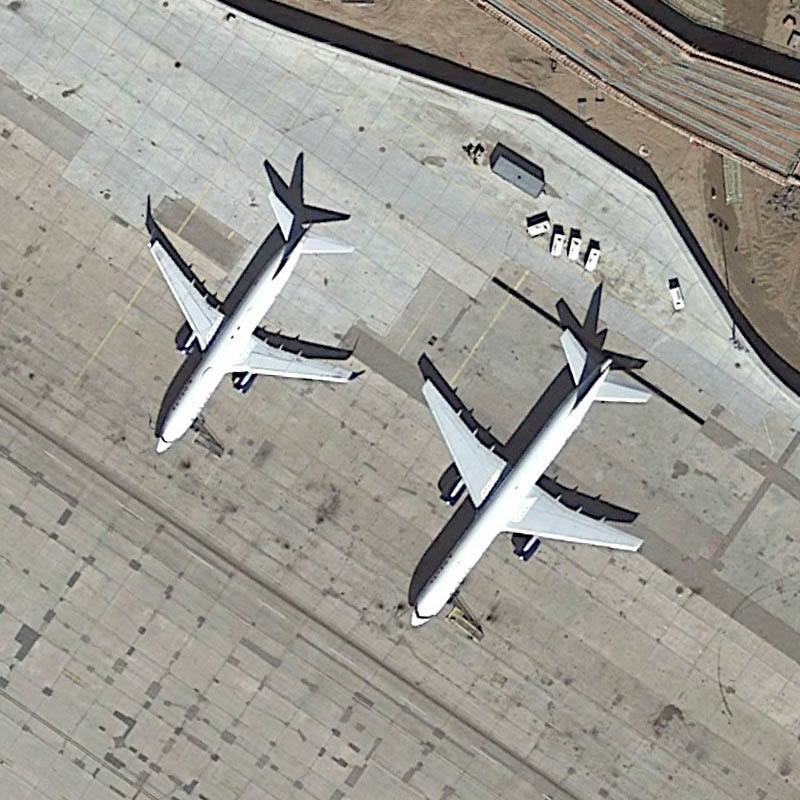airplane: (403, 327, 654, 630), (146, 191, 354, 453)
